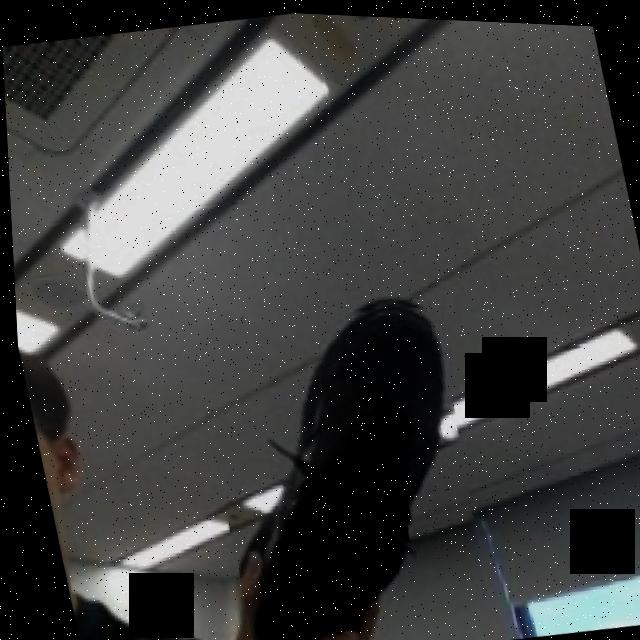shoe: (182, 284, 500, 640)
